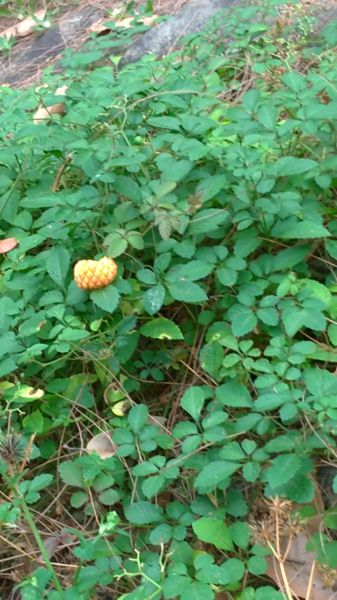eggs: (69, 254, 125, 292)
